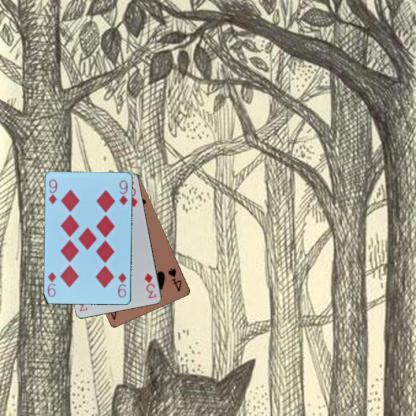3d: (142, 270, 158, 300)
4s: (166, 266, 184, 293)
9d: (46, 176, 58, 206), (116, 270, 128, 299)
